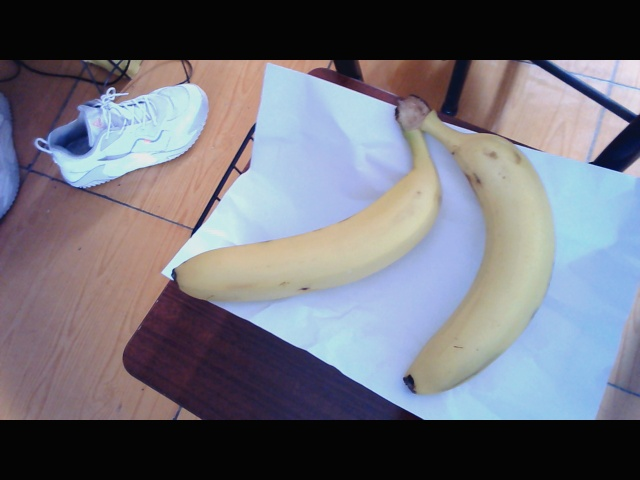banana: (426, 96, 556, 407), (170, 169, 447, 309)
